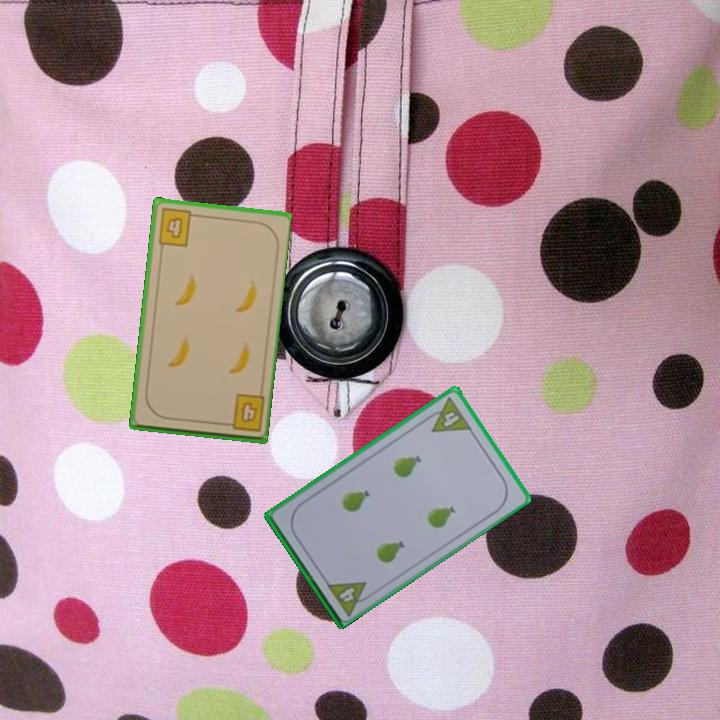4b: (219, 391, 267, 435), (155, 205, 200, 249)
4p: (421, 393, 474, 435), (323, 577, 376, 618)
